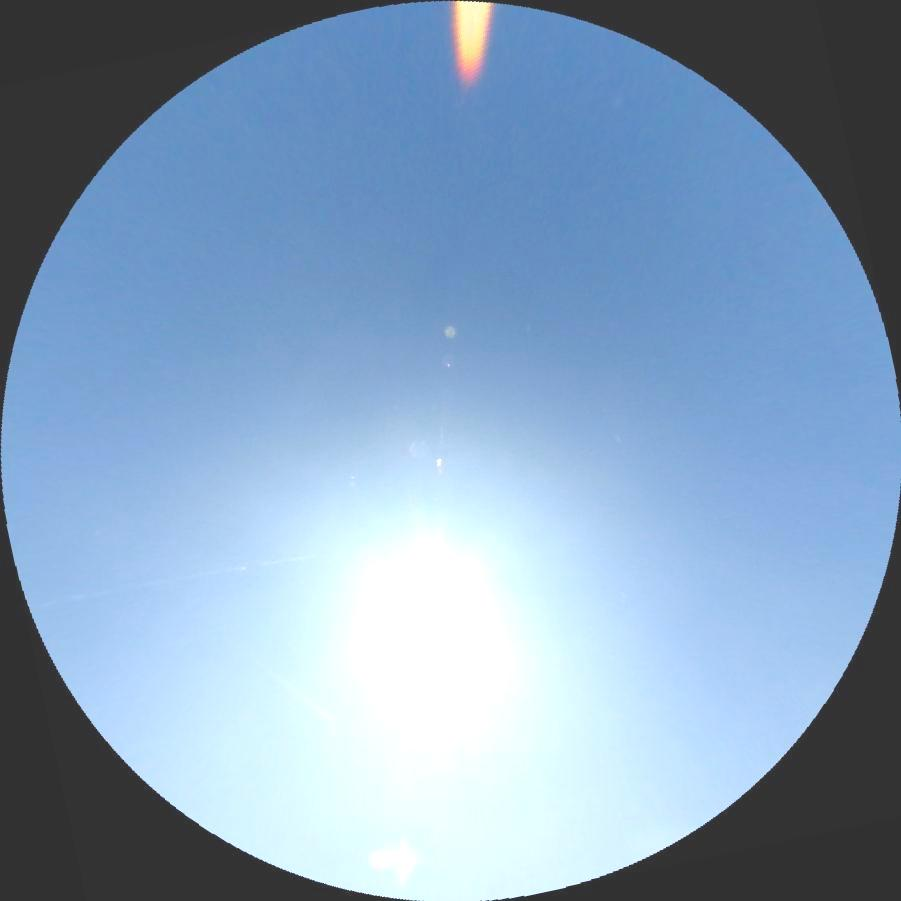contrail young: (227, 637, 330, 720)
parasite: (28, 546, 333, 609)
sun: (382, 556, 471, 653)
